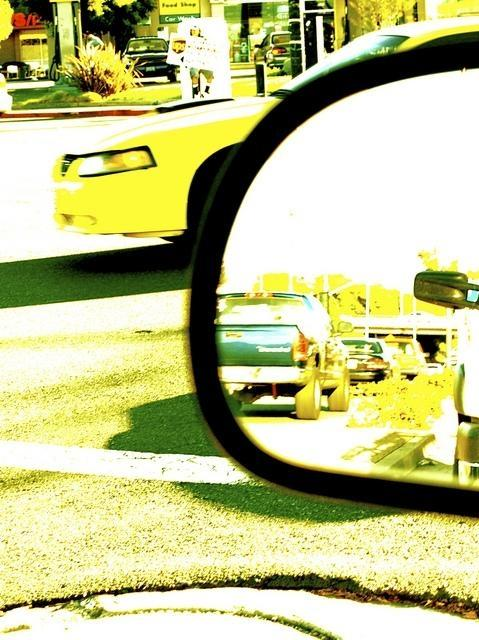car: (52, 15, 474, 242), (121, 36, 179, 84), (342, 338, 392, 384), (252, 30, 292, 68)
truck: (213, 294, 355, 416), (378, 334, 428, 376)
